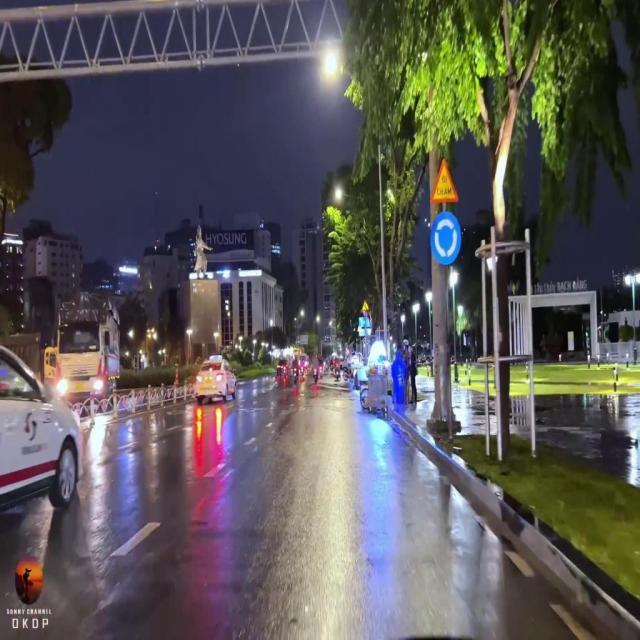di_cham: (428, 153, 460, 205)
noi_giao_nhau_chay_theo_vong: (429, 209, 463, 267)
